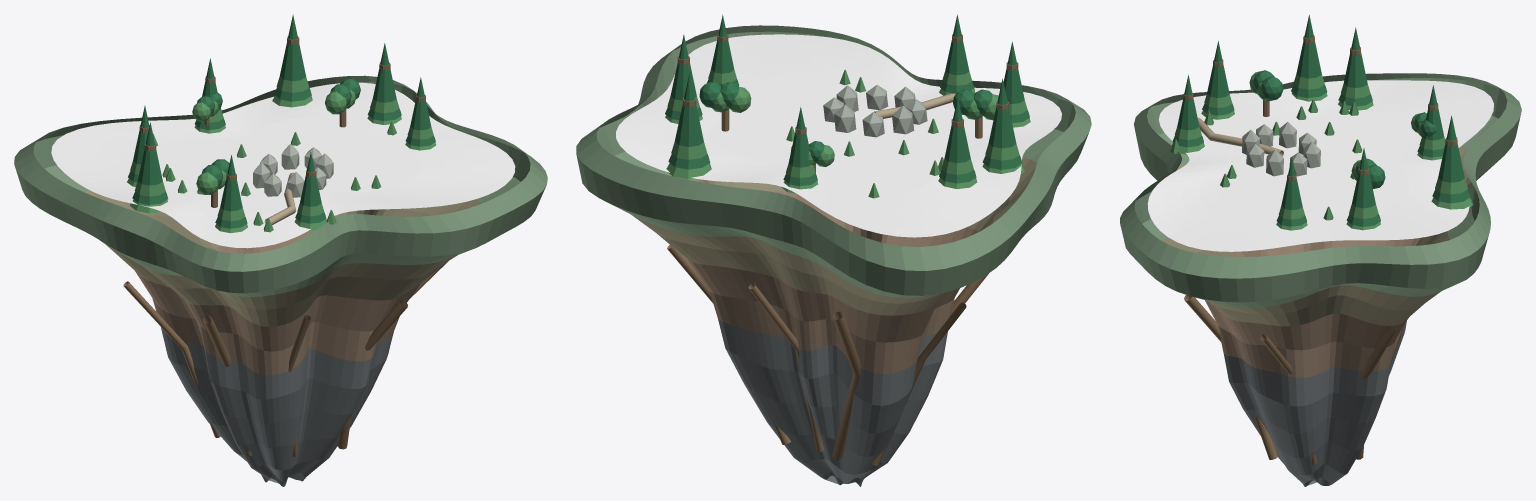
The model's file is FI-012-Ravenwood-Crown.glb.
3 renders of one model, left to right at view 1: azimuth 30°, elevation 25°; view 2: azimuth 150°, elevation 25°; view 3: azimuth 270°, elevation 25°, orthographic. The views are drawn at different scales.
Parts seen in each view (by area): view 1: FI-012_StratifiedFloatingCliff, FI-012_BuildableTop, FI-012_HangingRoot_03, Whisperpine_03_Bough_03, FI-012_HangingRoot_06, Whisperpine_00_Bough_03, Whisperpine_04_Bough_03, Whisperpine_01_Bough_03, Whisperpine_06_Bough_03, Whisperpine_05_Bough_03, FI-012_HangingRoot_04; view 2: FI-012_StratifiedFloatingCliff, FI-012_BuildableTop, FI-012_HangingRoot_02, Whisperpine_03_Bough_03, Whisperpine_00_Bough_03, FI-012_HangingRoot_01, Whisperpine_02_Bough_03, FI-012_HangingRoot_03, Whisperpine_06_Bough_03, Whisperpine_04_Bough_03, Whisperpine_07_Bough_03, Whisperpine_01_Bough_03 (+2 smaller); view 3: FI-012_StratifiedFloatingCliff, FI-012_BuildableTop, Whisperpine_03_Bough_03, FI-012_HangingRoot_06, Whisperpine_00_Bough_03, Whisperpine_04_Bough_03, Whisperpine_02_Bough_03, Whisperpine_01_Bough_03, FI-012_HangingRoot_00, Whisperpine_06_Bough_03, Whisperpine_05_Bough_03, ForestPath (+2 smaller).
Boxes of the visible parts, box(x1,y1,x2,y2) form: FI-012_StratifiedFloatingCliff: box(14, 75, 547, 486); FI-012_BuildableTop: box(51, 82, 515, 248); FI-012_HangingRoot_03: box(123, 281, 220, 437); Whisperpine_03_Bough_03: box(280, 14, 306, 81); FI-012_HangingRoot_06: box(337, 300, 407, 449); Whisperpine_00_Bough_03: box(137, 122, 162, 185); Whisperpine_04_Bough_03: box(373, 43, 396, 102); Whisperpine_01_Bough_03: box(220, 155, 242, 211); Whisperpine_06_Bough_03: box(300, 152, 321, 206); Whisperpine_05_Bough_03: box(410, 77, 431, 130); FI-012_HangingRoot_04: box(203, 315, 252, 455); FI-012_StratifiedFloatingCliff: box(576, 25, 1091, 486); FI-012_BuildableTop: box(616, 34, 1061, 237); FI-012_HangingRoot_02: box(832, 311, 861, 460); Whisperpine_03_Bough_03: box(674, 73, 703, 146); Whisperpine_00_Bough_03: box(988, 78, 1016, 148); FI-012_HangingRoot_01: box(748, 283, 824, 451); Whisperpine_02_Bough_03: box(944, 96, 970, 163); FI-012_HangingRoot_03: box(872, 302, 966, 465); Whisperpine_06_Bough_03: box(945, 14, 969, 75); Whisperpine_04_Bough_03: box(670, 34, 696, 100); Whisperpine_07_Bough_03: box(788, 107, 810, 167); Whisperpine_01_Bough_03: box(1003, 41, 1024, 104); FI-012_StratifiedFloatingCliff: box(1120, 73, 1521, 486); FI-012_BuildableTop: box(1147, 80, 1493, 251); Whisperpine_03_Bough_03: box(1438, 115, 1464, 182); FI-012_HangingRoot_06: box(1184, 295, 1277, 459); Whisperpine_00_Bough_03: box(1296, 15, 1321, 78); Whisperpine_04_Bough_03: box(1352, 148, 1375, 208); Whisperpine_02_Bough_03: box(1343, 27, 1367, 87); Whisperpine_01_Bough_03: box(1207, 41, 1229, 97); FI-012_HangingRoot_00: box(1356, 325, 1395, 459); Whisperpine_06_Bough_03: box(1177, 74, 1199, 130); Whisperpine_05_Bough_03: box(1281, 156, 1302, 210); ForestPath: box(1197, 117, 1283, 156).
Size of the model in its own units: 13.2 by 12.45 by 11.24.
